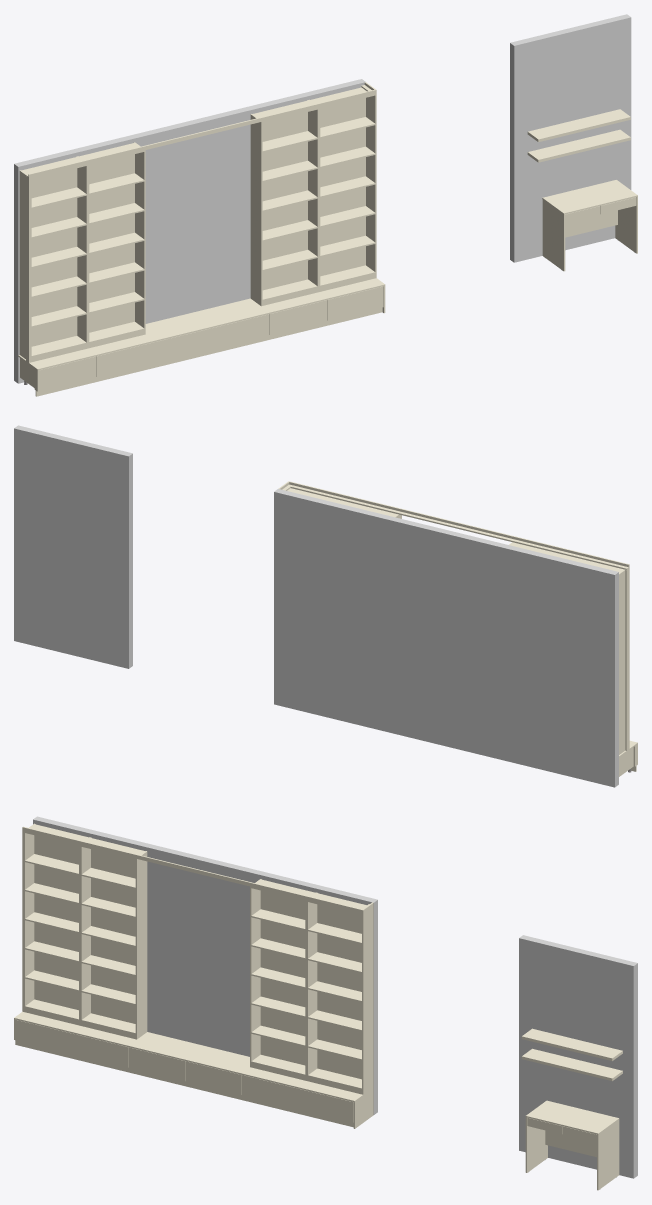
File: GYEREKJATSZO.glb
3 views of the same model, one above another, from view 1: azimuth 30°, elevation 25°; view 2: azimuth 150°, elevation 25°; view 3: azimuth 330°, elevation 25° (orthographic). The views are drawn at different scales.
Visible parts, largest first — view 1: 3DGeom-1, 3DGeom-176, 3DGeom-140, 3DGeom-14, 3DGeom-98, 3DGeom-56, 3DGeom-46, 3DGeom-369, 3DGeom-372, 3DGeom-178, 3DGeom-95, 3DGeom-53 (+19 smaller); view 2: 3DGeom-1, 3DGeom-176, 3DGeom-130, 3DGeom-375, 3DGeom-377, 3DGeom-381, 3DGeom-379, 3DGeom-383; view 3: 3DGeom-1, 3DGeom-176, 3DGeom-56, 3DGeom-98, 3DGeom-140, 3DGeom-14, 3DGeom-369, 3DGeom-372, 3DGeom-11, 3DGeom-95, 3DGeom-178, 3DGeom-88 (+18 smaller).
Boxes of the visible parts, left/top/right/bottom form: 3DGeom-1: left=14, top=79, right=365, bottom=383; 3DGeom-176: left=510, top=14, right=631, bottom=262; 3DGeom-140: left=31, top=168, right=77, bottom=346; 3DGeom-14: left=320, top=98, right=365, bottom=276; 3DGeom-98: left=89, top=154, right=134, bottom=332; 3DGeom-56: left=262, top=112, right=307, bottom=290; 3DGeom-46: left=250, top=114, right=261, bottom=305; 3DGeom-369: left=18, top=312, right=211, bottom=370; 3DGeom-372: left=193, top=278, right=384, bottom=326; 3DGeom-178: left=542, top=180, right=637, bottom=213; 3DGeom-95: left=134, top=142, right=144, bottom=327; 3DGeom-53: left=307, top=100, right=317, bottom=285; 3DGeom-1: left=274, top=489, right=618, bottom=787; 3DGeom-176: left=14, top=425, right=132, bottom=668; 3DGeom-130: left=619, top=569, right=625, bottom=754; 3DGeom-375: left=625, top=568, right=629, bottom=750; 3DGeom-377: left=455, top=525, right=628, bottom=569; 3DGeom-381: left=287, top=484, right=457, bottom=528; 3DGeom-379: left=457, top=522, right=629, bottom=568; 3DGeom-383: left=288, top=481, right=457, bottom=525; 3DGeom-1: left=33, top=816, right=377, bottom=1114; 3DGeom-176: left=519, top=935, right=637, bottom=1178; 3DGeom-56: left=260, top=890, right=305, bottom=1065; 3DGeom-98: left=91, top=849, right=135, bottom=1023; 3DGeom-140: left=34, top=835, right=78, bottom=1010; 3DGeom-14: left=317, top=904, right=361, bottom=1079; 3DGeom-369: left=14, top=1011, right=203, bottom=1059; 3DGeom-372: left=185, top=1046, right=362, bottom=1100; 3DGeom-11: left=363, top=907, right=373, bottom=1094; 3DGeom-95: left=137, top=851, right=147, bottom=1039; 3DGeom-178: left=526, top=1100, right=618, bottom=1133; 3DGeom-88: left=81, top=837, right=91, bottom=1019.
Bounding box in the file's own units: 8.28 × 2.81 × 0.6.
Materials: 11 (4 with a texture image).
